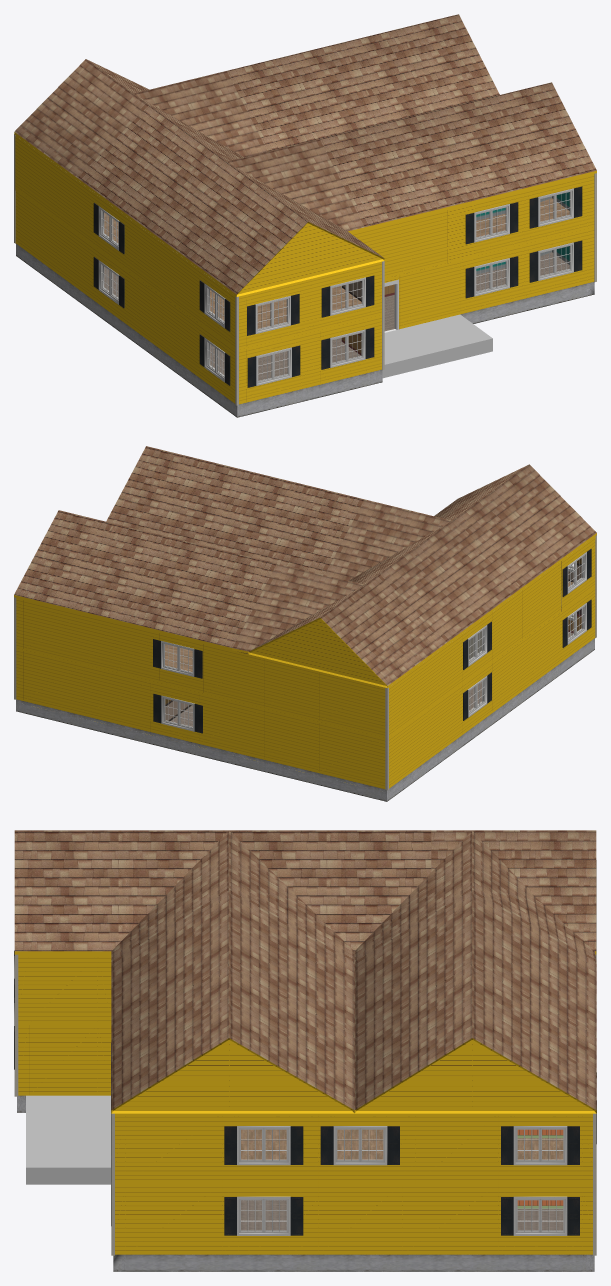
The model's file is HOUSE updated.fbx.
The picture shows the model from 3 angles, top to bottom: view 1: azimuth 30°, elevation 25°; view 2: azimuth 150°, elevation 25°; view 3: azimuth 270°, elevation 25°; orthographic projection. The views are drawn at different scales.
Visible parts, largest first — view 1: polySurface1228, In_WallDown_3x__2_87, Porch_Floor_3x2__25_, polySurface457, polySurface458, polySurface347, polySurface345, polySurface1230, polySurface1229, polySurface341; view 2: polySurface1228, In_WallDown_3x__2_87, polySurface427, polySurface477, polySurface341, polySurface458, polySurface457; view 3: polySurface1228, In_WallDown_3x__2_87, Porch_Floor_3x2__25_, polySurface458, polySurface299, polySurface457, In_WallDown_Corner_In1.
Part boxes in pixels (bbox=[...]): polySurface1228: bbox=[14, 14, 596, 296]; In_WallDown_3x__2_87: bbox=[14, 134, 596, 417]; Porch_Floor_3x2__25_: bbox=[382, 314, 492, 378]; polySurface457: bbox=[104, 252, 569, 380]; polySurface458: bbox=[104, 213, 505, 328]; polySurface347: bbox=[465, 256, 518, 298]; polySurface345: bbox=[529, 240, 582, 282]; polySurface1230: bbox=[321, 275, 374, 317]; polySurface1229: bbox=[247, 294, 299, 335]; polySurface341: bbox=[199, 334, 230, 385]; polySurface1228: bbox=[14, 446, 596, 688]; In_WallDown_3x__2_87: bbox=[14, 535, 596, 801]; polySurface427: bbox=[153, 693, 202, 733]; polySurface477: bbox=[153, 639, 202, 678]; polySurface341: bbox=[562, 599, 591, 647]; polySurface458: bbox=[165, 581, 573, 671]; polySurface457: bbox=[170, 632, 573, 726]; polySurface1228: bbox=[14, 830, 596, 1113]; In_WallDown_3x__2_87: bbox=[14, 860, 596, 1271]; Porch_Floor_3x2__25_: bbox=[26, 1095, 110, 1184]; polySurface458: bbox=[241, 1129, 563, 1159]; polySurface299: bbox=[224, 1196, 303, 1235]; polySurface457: bbox=[241, 1200, 563, 1230]; In_WallDown_Corner_In1: bbox=[97, 954, 111, 1024].
Size of the model in its own units: 2157 by 930 by 2094.
